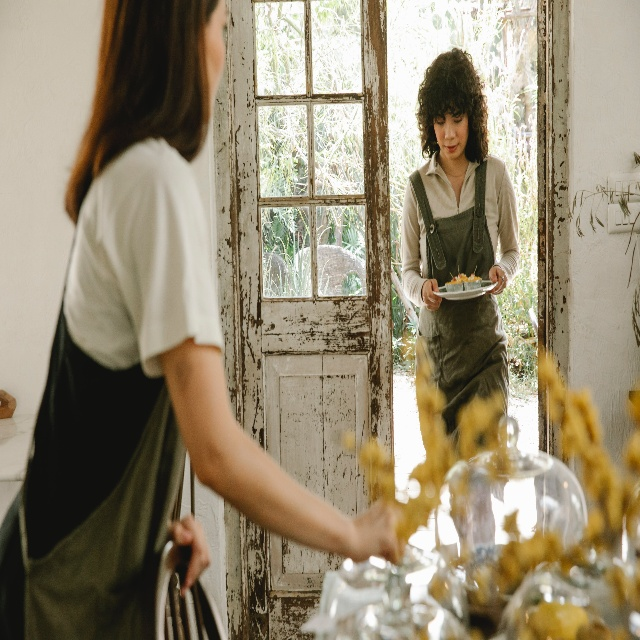Sin_guantes: (351, 494, 406, 564), (167, 511, 210, 597), (421, 278, 442, 311), (485, 266, 508, 295)
